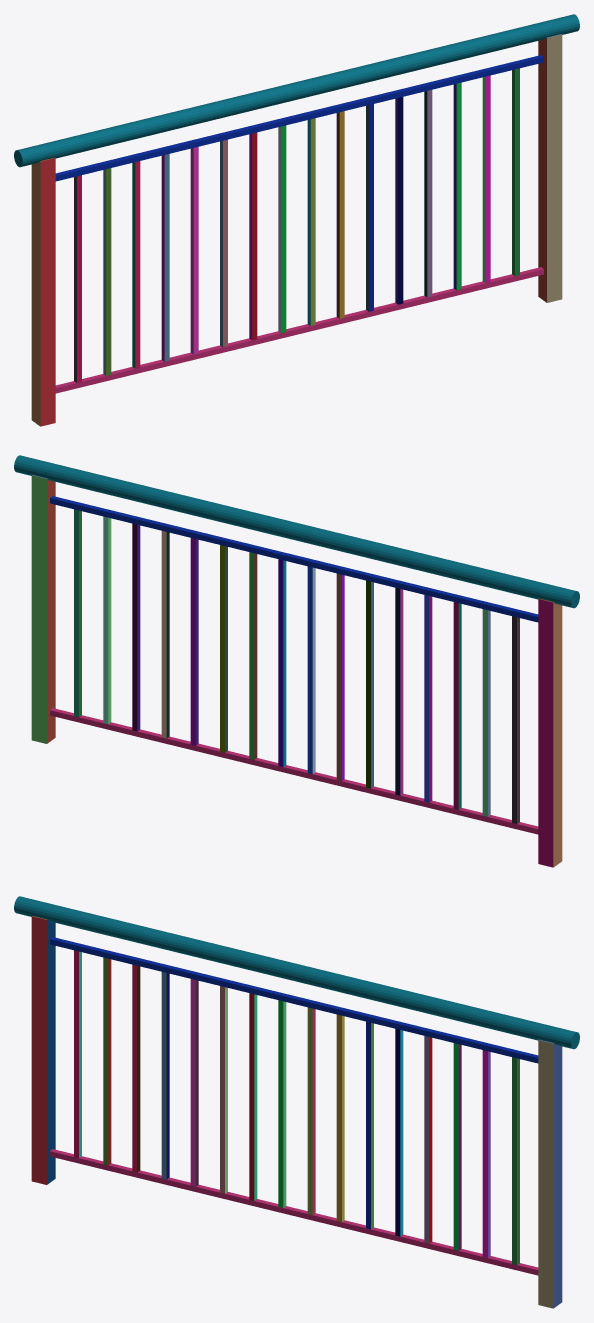
File: generic_fence01.fbx
3 renders of one model, top to bottom at view 1: azimuth 30°, elevation 25°; view 2: azimuth 150°, elevation 25°; view 3: azimuth 330°, elevation 25°, orthographic.
Parts seen in each view (by area): view 1: Fence; view 2: Fence; view 3: Fence.
Boxes of the visible parts, x1,y1,x2,y2 form: Fence: (14,14,579,426); Fence: (14,455,579,867); Fence: (14,896,579,1308).
Bounding box in the file's own units: 220 × 6 × 104.
